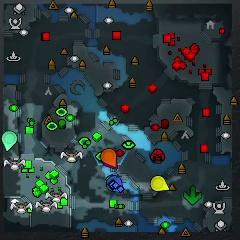p1: (106, 175, 123, 192)
p2: (2, 131, 18, 151)
p3: (101, 159, 118, 169)
p4: (151, 176, 169, 191)
p5: (101, 148, 116, 166)
x4: (183, 186, 201, 205)
